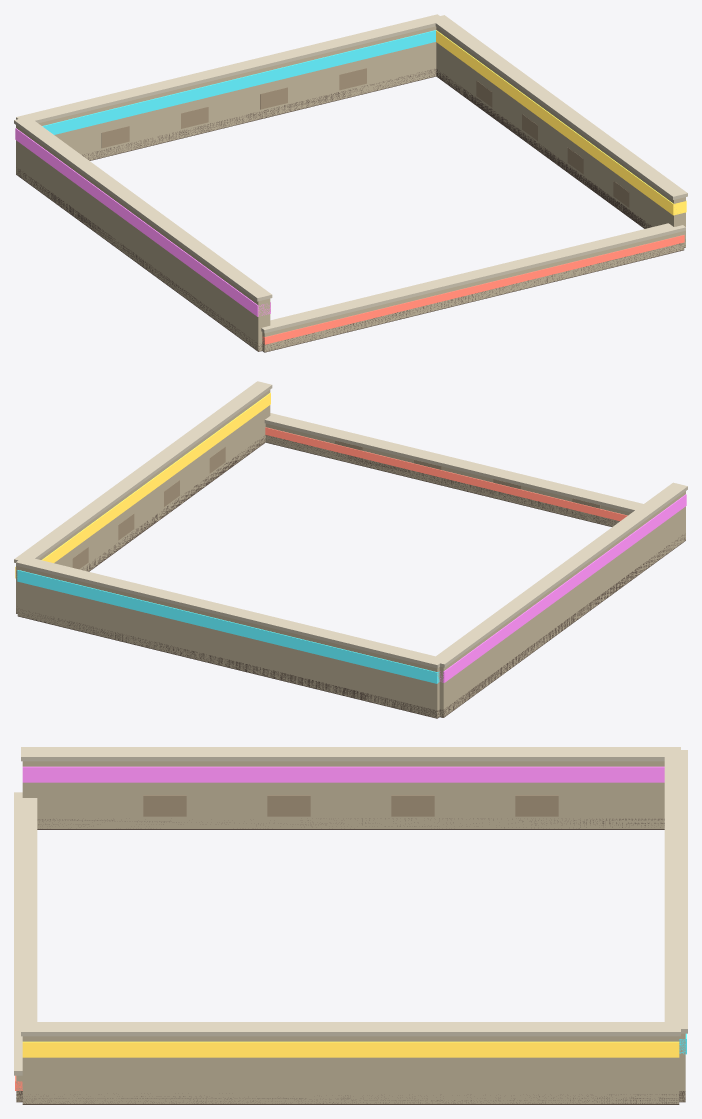
The model's file is arena-walls.gltf.
3 views of the same model, one above another, from view 1: azimuth 30°, elevation 25°; view 2: azimuth 150°, elevation 25°; view 3: azimuth 270°, elevation 25° (orthographic). The views are drawn at different scales.
Bounding box in the file's own units: 43.5 × 5.26 × 43.5.
